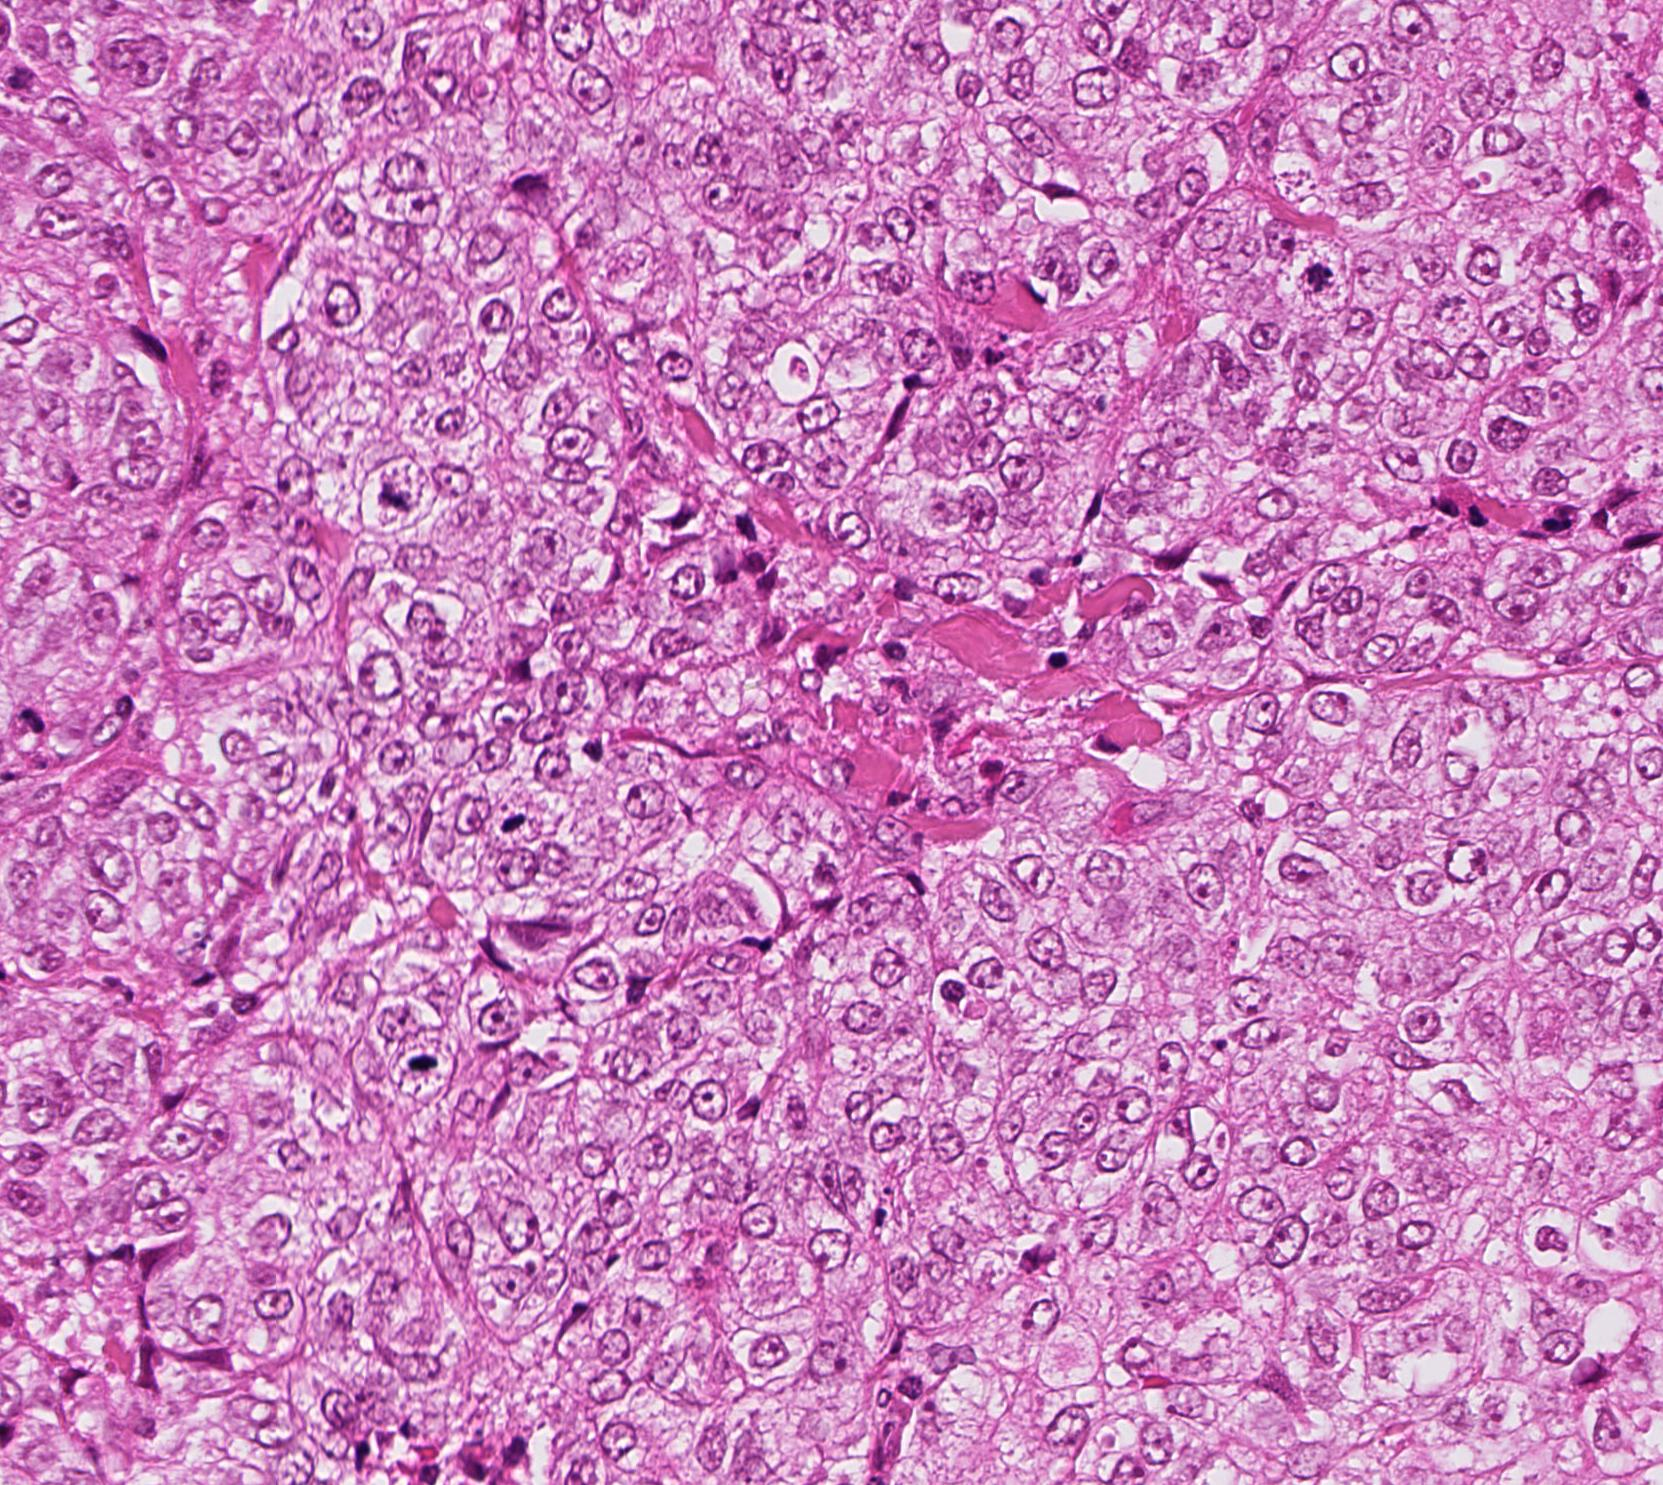mitosis: (394, 1031, 454, 1091), (363, 459, 423, 517)
